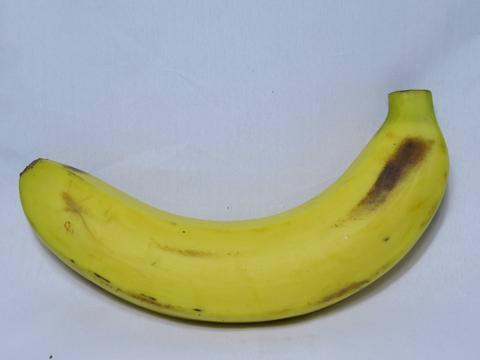freshripe: (10, 70, 466, 341)
